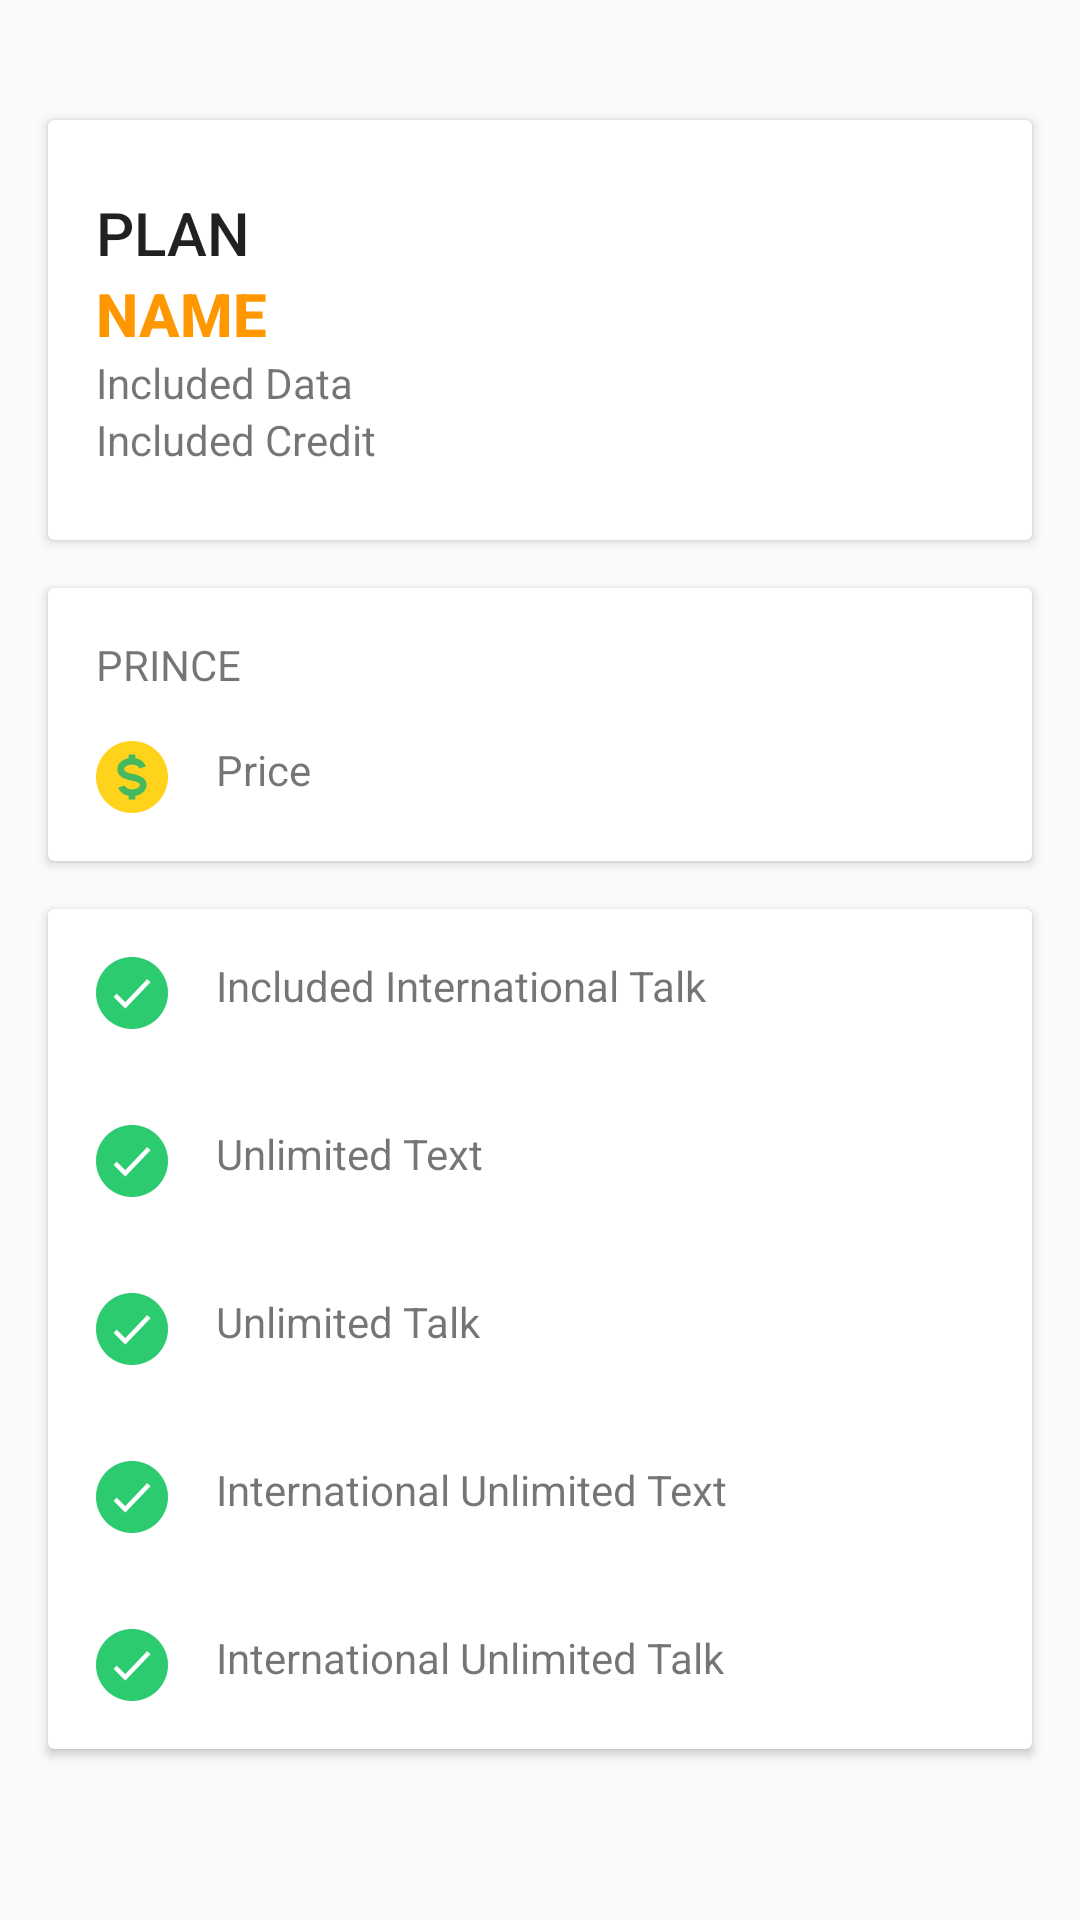

Point at icon controls on the screen. Image size 1080 × 1920, points as point (x, y).
check: point (132, 993), point (132, 1161), point (132, 1329), point (132, 1497), point (132, 1665)
dollar: point (132, 777)
